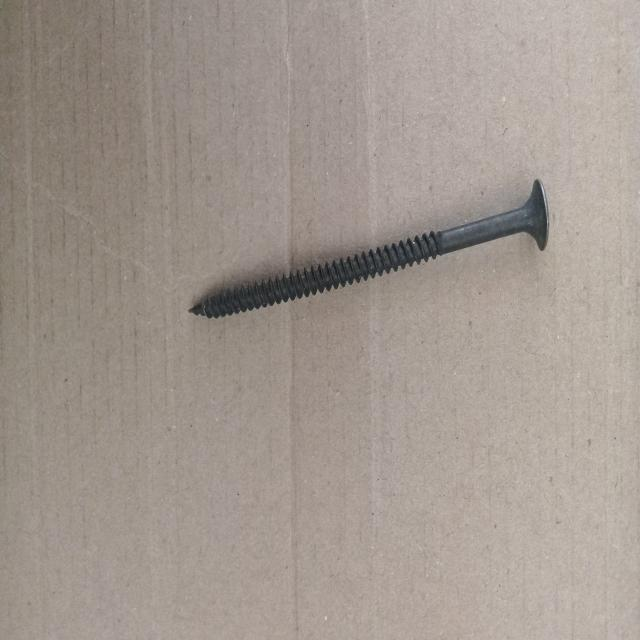screw: (188, 176, 550, 323)
